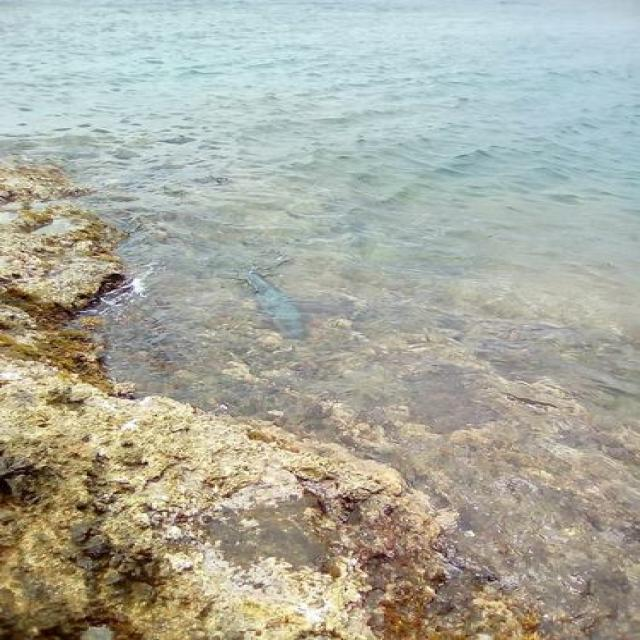Balik: (246, 271, 307, 339)
